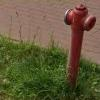a fire hydrant: (64, 9, 97, 84)
